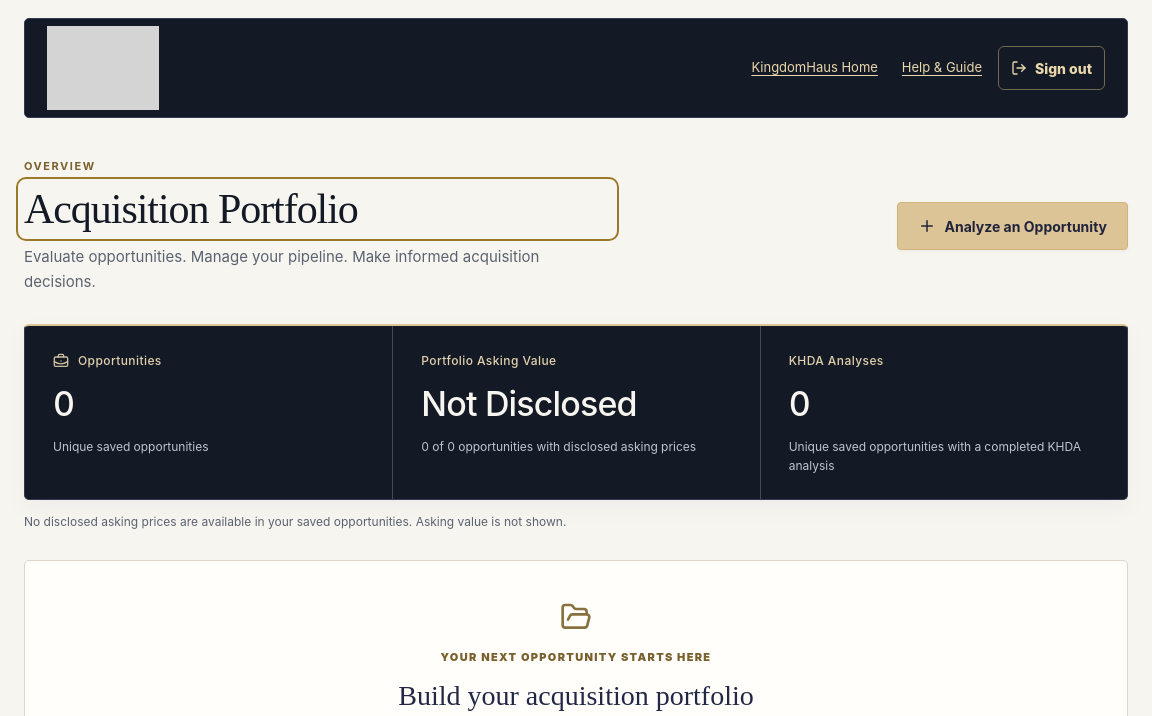
Scenario: private workspace integration using synthetic SDK accounts and records › shows a clear fail-closed message when a pilot scan is denied by the paid-provider guard
Click the button "Analyze an Opportunity". click: (1012, 226)
box: [897,202,1128,250]
(page scrolled)
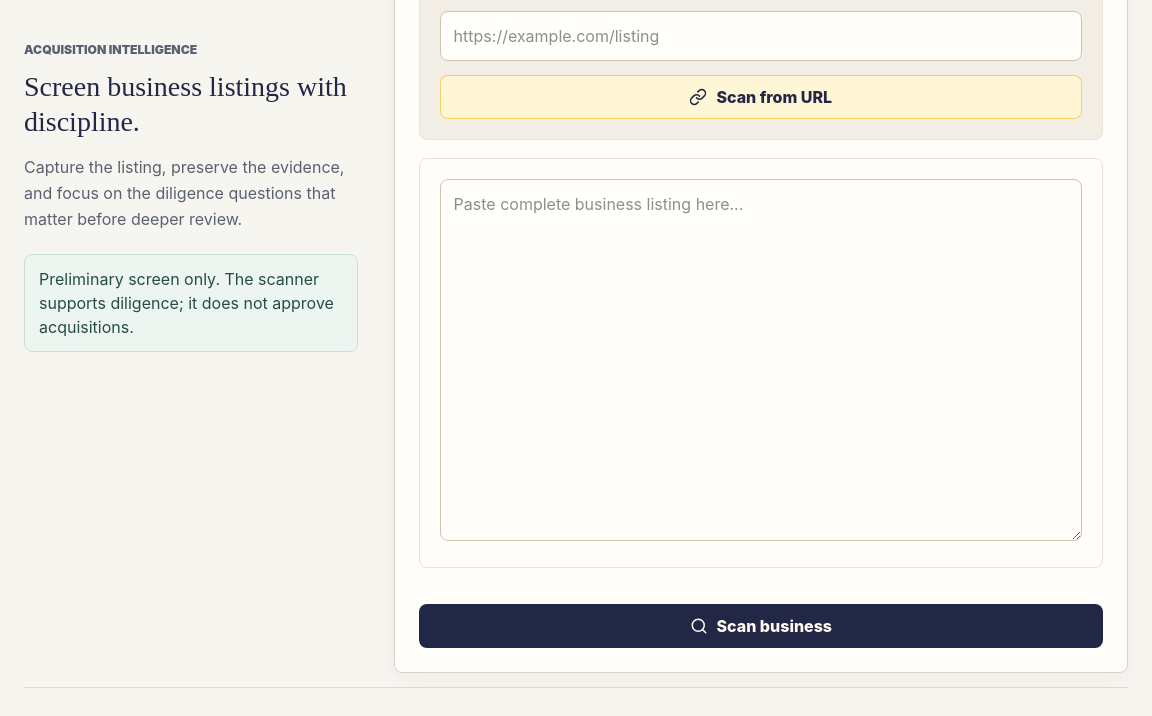
Result: the button "Scan business" is shown at [419,604,1103,648]
Type "Synthetic pilot A acquisition listing with sufficient fictional information." into the text box named "Listing text". click: (761, 360)
box: [440,179,1082,541]
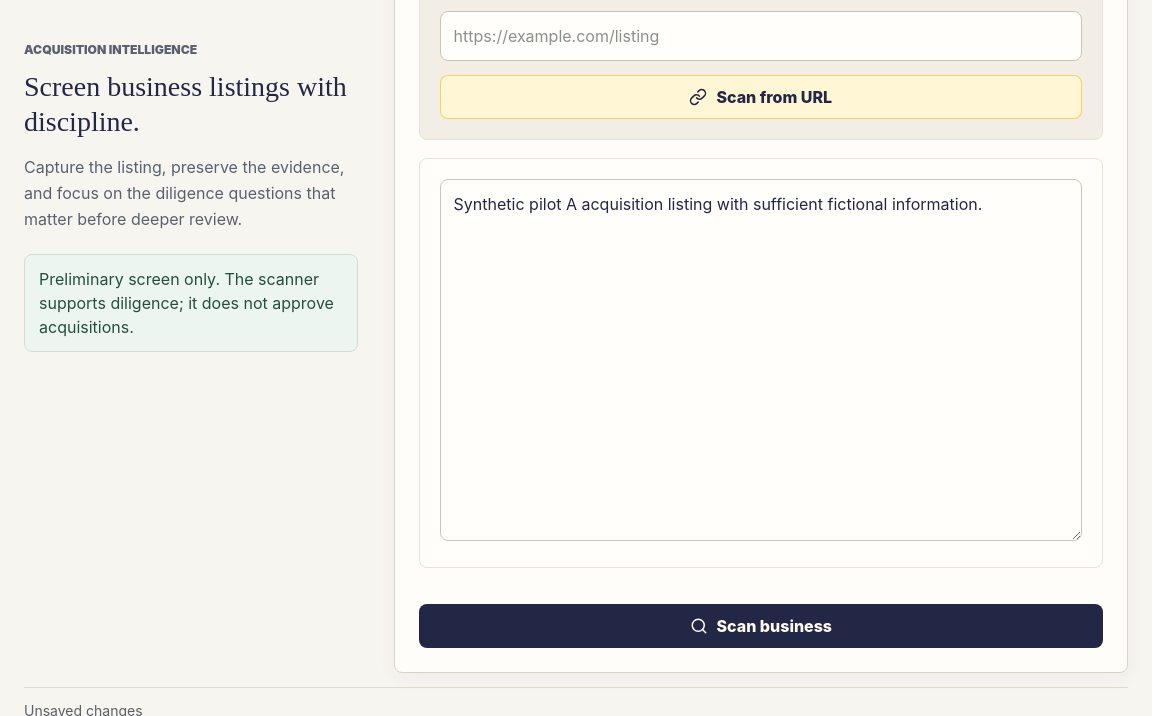
Click the button "Scan business". click: (761, 626)
box: [419,604,1103,648]
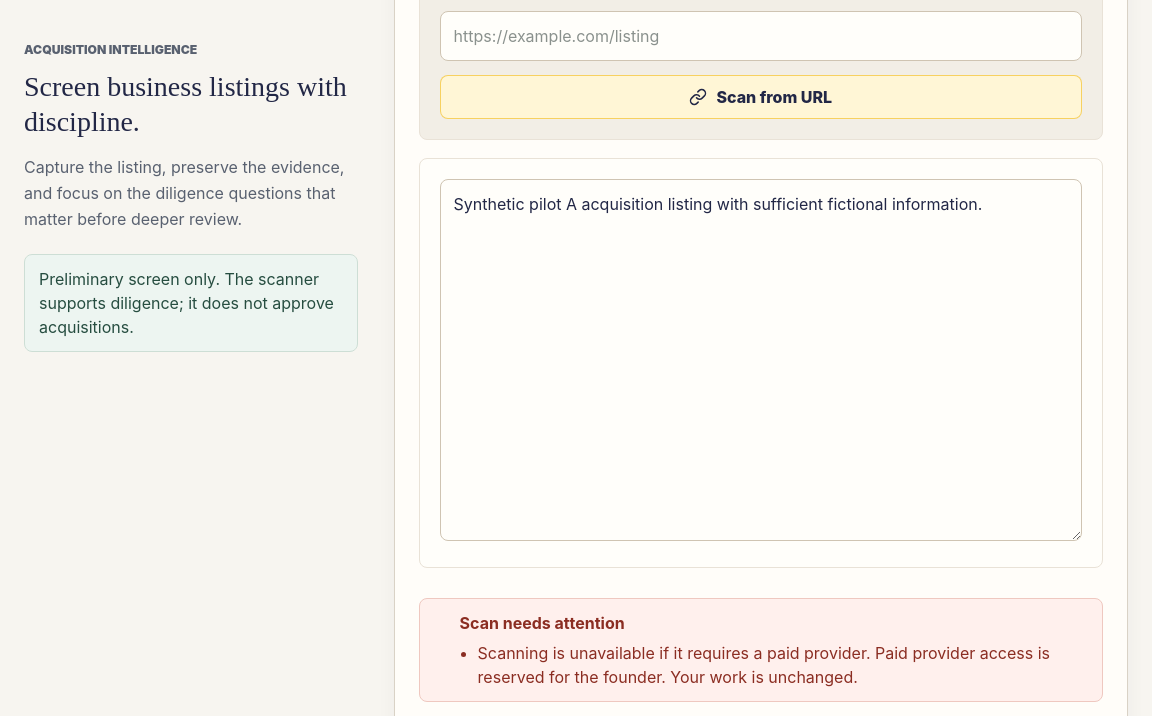
Result: the list item "Paid provider access is reserved for the founder" is shown at [478,643,1050,687]
